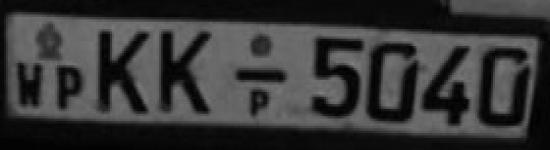-: (234, 64, 288, 87)
0: (476, 44, 530, 132), (368, 39, 420, 124)
4: (422, 42, 474, 129)
5: (310, 33, 366, 122)
K: (93, 25, 156, 116), (158, 27, 218, 118)
P: (52, 64, 87, 112)
W: (13, 57, 49, 114)
